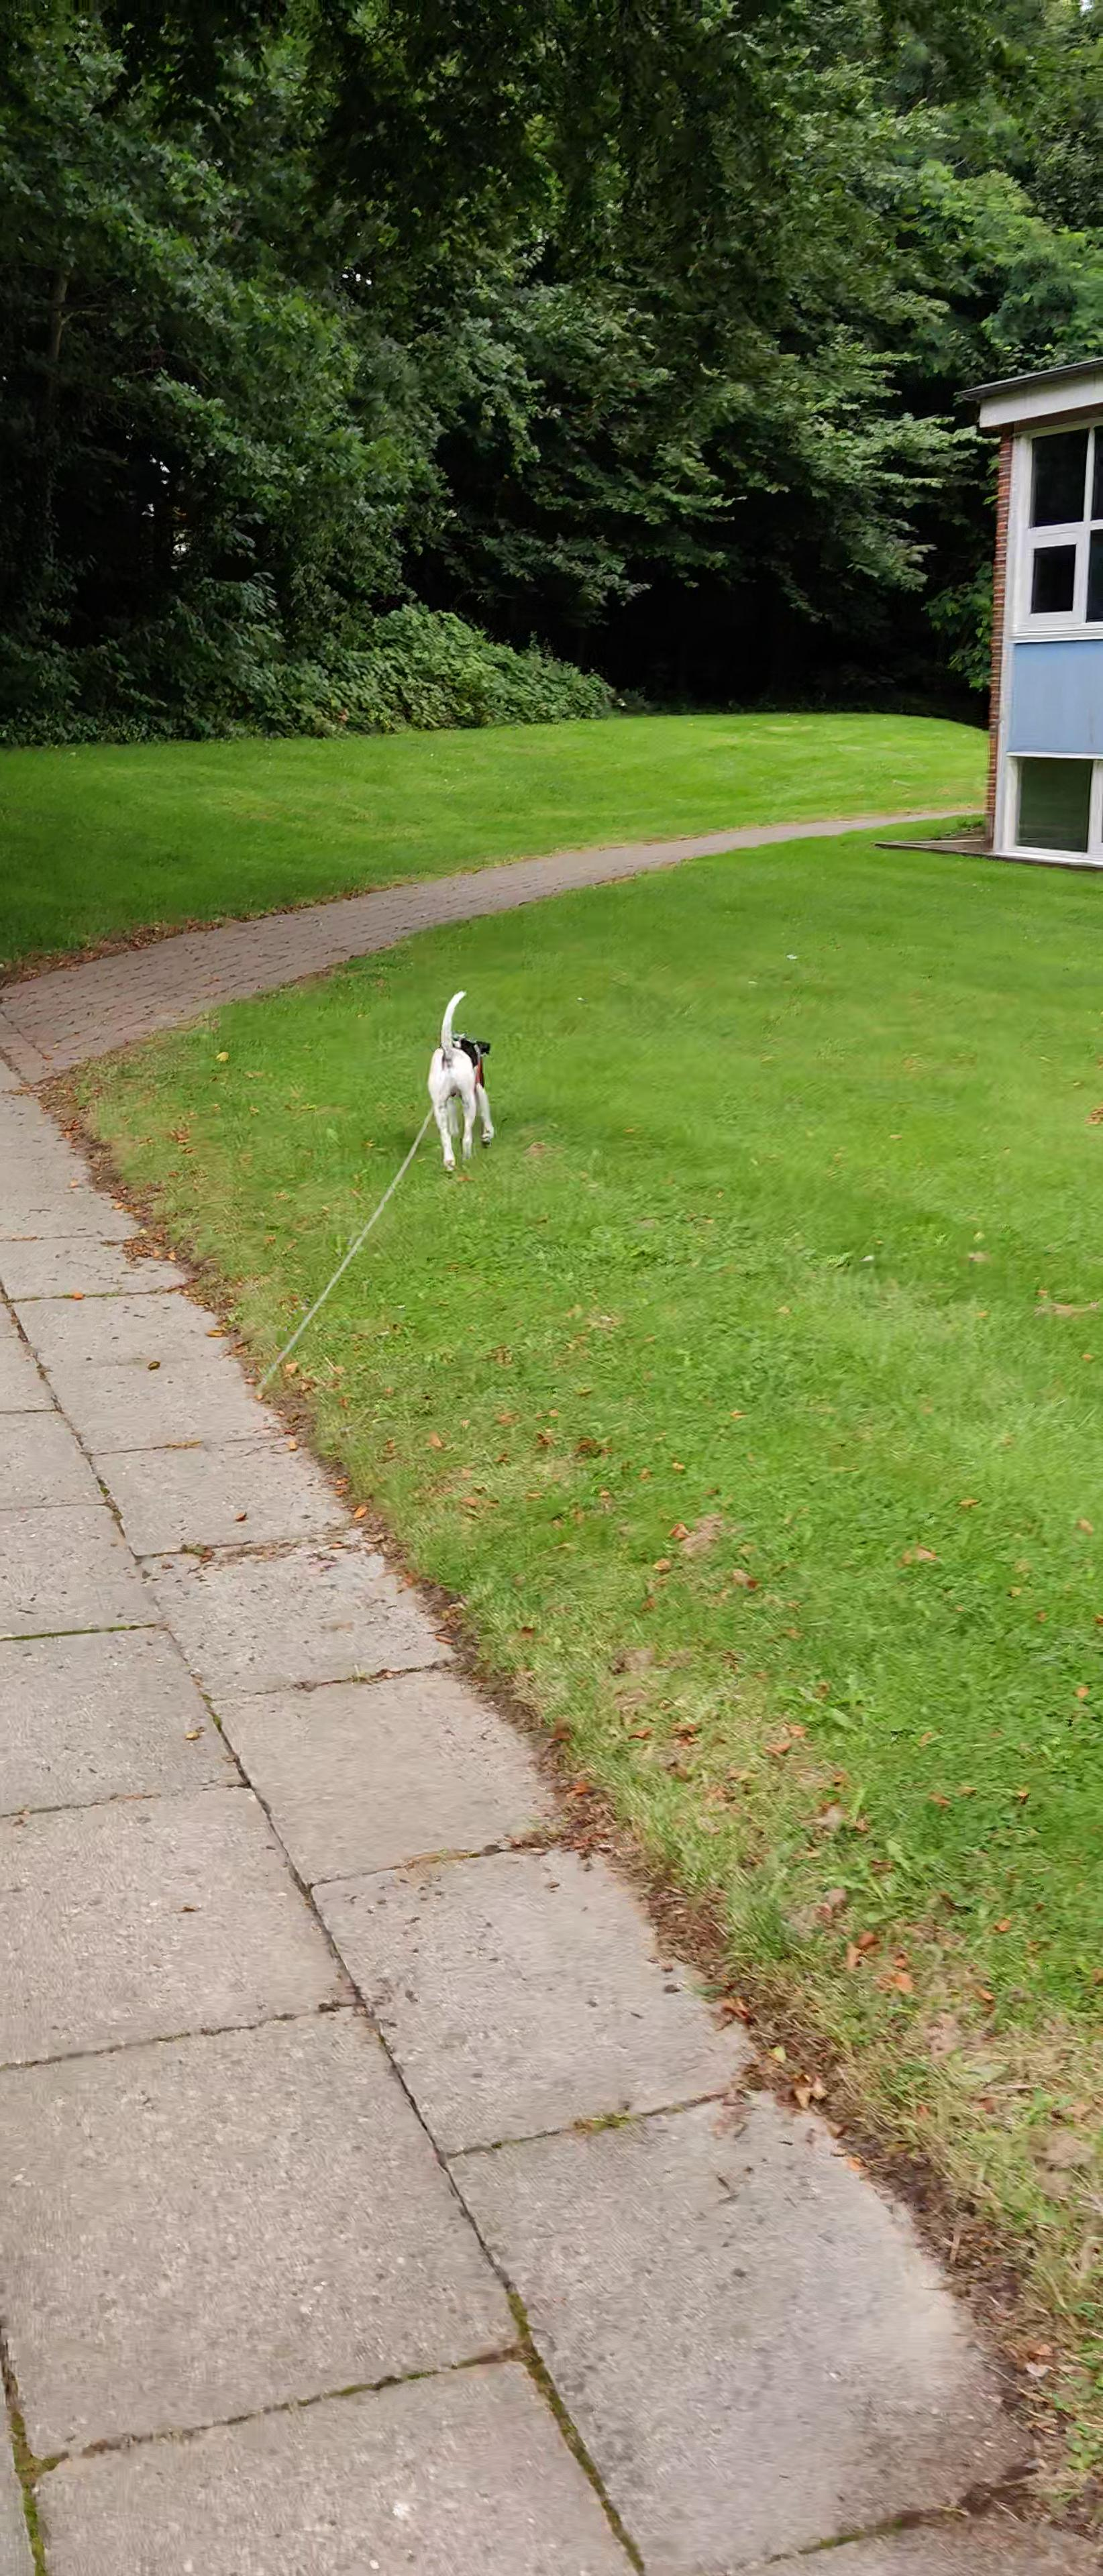Dog: (424, 987, 500, 1178)
